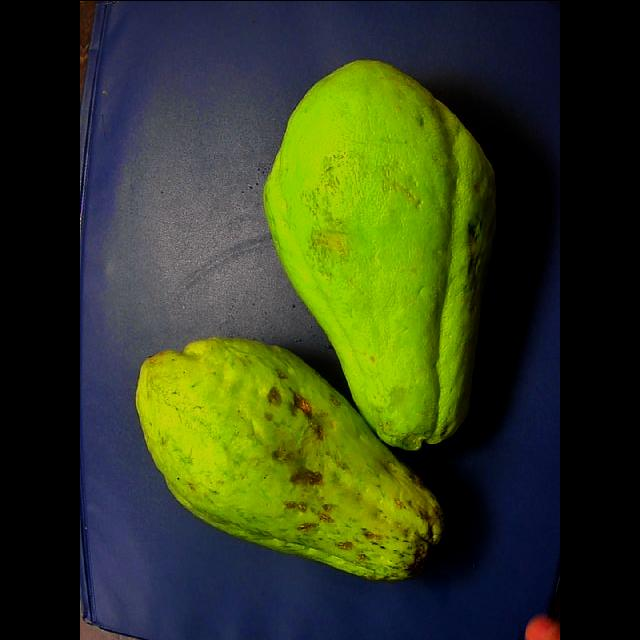chayote: (264, 60, 494, 448), (136, 337, 444, 578)
